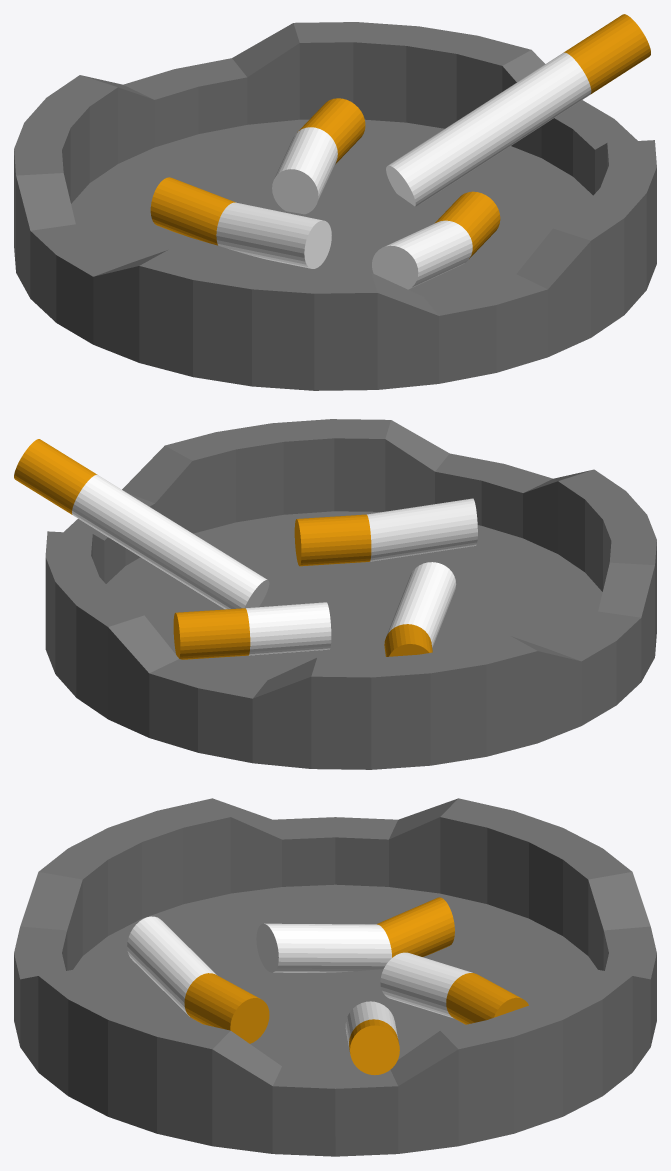
File: AshTray.fbx
The picture shows the model from 3 angles, top to bottom: view 1: azimuth 30°, elevation 25°; view 2: azimuth 150°, elevation 25°; view 3: azimuth 270°, elevation 25°; orthographic projection. The views are drawn at different scales.
Visible parts, largest first — view 1: AshTray; view 2: AshTray; view 3: AshTray.
Part boxes in pixels (x1,y1,x2,y2): AshTray: [14, 14, 656, 390]; AshTray: [14, 419, 656, 769]; AshTray: [14, 798, 656, 1156].
Bounding box in the file's own units: 218 × 50.72 × 200.
